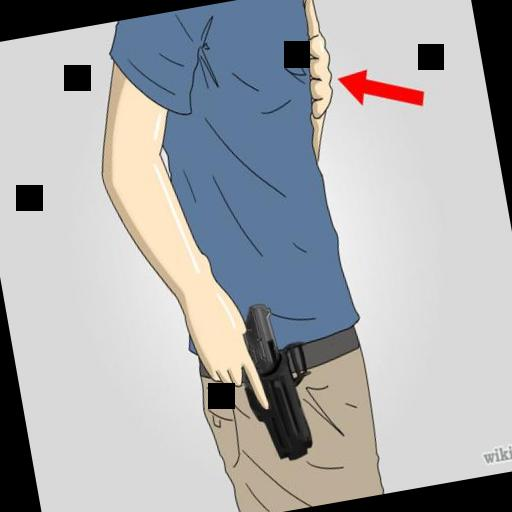Handgun: (175, 300, 322, 484)
